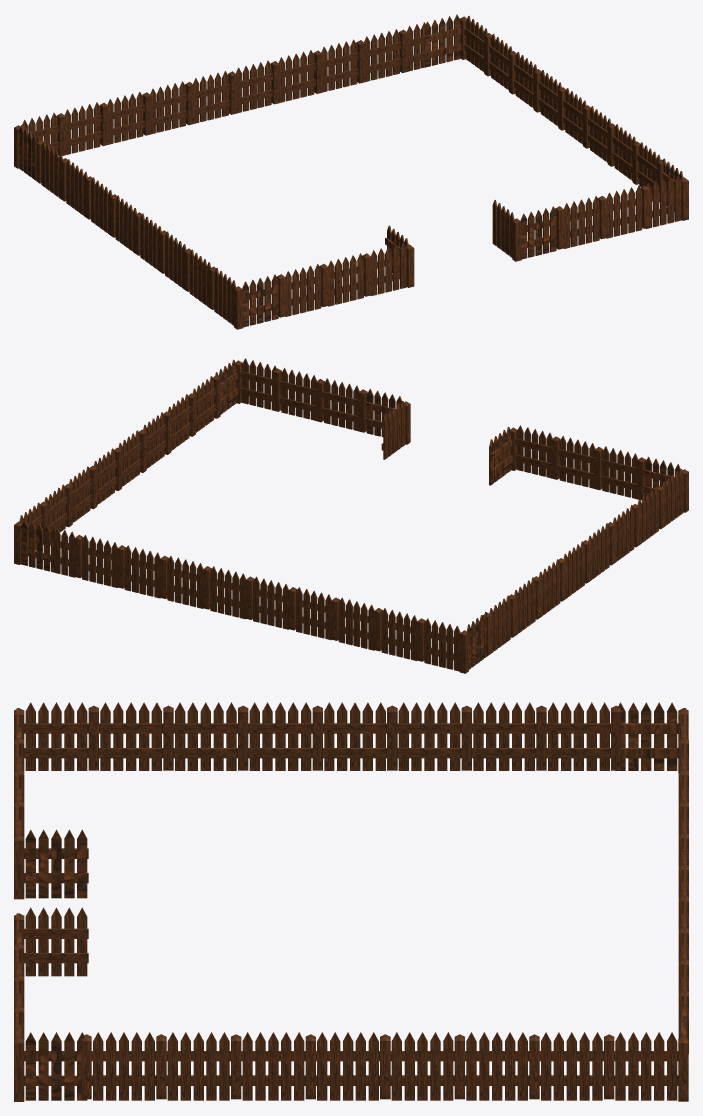
File: cerca.obj
3 views of the same model, one above another, from view 1: azimuth 30°, elevation 25°; view 2: azimuth 150°, elevation 25°; view 3: azimuth 270°, elevation 25° (orthographic). The views are drawn at different scales.
Parts seen in each view (by area): view 1: pasted__pasted__pasted__pasted__pasted__pasted__pasted__pasted__, pasted__pasted__pasted__pasted__pasted__pasted__pasted__Fence_Fu, pasted__Fence_Outwards_Corner group65, Fence_Outwards_Corner, pasted__pasted__Fence_Outwards_Corner pasted__group47 group56, pasted__pasted__pasted__pasted__Fence_Full pasted__pasted__paste, pasted__Fence_Outwards_Corner group40, pasted__pasted__Fence_Full pasted__group66 group67, Fence_Full, pasted__Fence_Full group39, pasted__pasted__Fence_Outwards_Corner pasted__group40 group68, pasted__Fence_Full group66 (+5 smaller); view 2: pasted__pasted__pasted__pasted__pasted__pasted__pasted__pasted__, pasted__pasted__pasted__pasted__pasted__pasted__pasted__Fence_Fu, pasted__Fence_Outwards_Corner group40, pasted__Fence_Outwards_Corner group47, pasted__pasted__pasted__pasted__Fence_Full pasted__pasted__paste, pasted__pasted__Fence_Outwards_Corner pasted__group40 group68, pasted__Fence_Outwards_Corner group65, pasted__pasted__Fence_Full pasted__group66 group67, Fence_Full, pasted__Fence_Full group39, pasted__pasted__Fence_Outwards_Corner pasted__group47 group56, pasted__Fence_Full group66 (+5 smaller); view 3: pasted__pasted__pasted__pasted__pasted__pasted__pasted__pasted__, pasted__pasted__pasted__pasted__Fence_Full pasted__pasted__paste, pasted__pasted__pasted__pasted__pasted__pasted__pasted__Fence_Fu, pasted__pasted__Fence_Full pasted__group36 group38, pasted__Fence_Outwards_Corner group40, pasted__pasted__Fence_Outwards_Corner pasted__group47 group56, pasted__pasted__pasted__pasted__pasted__pasted__Fence_Full paste, pasted__pasted__pasted__pasted__pasted__Fence_Full pasted__paste, pasted__pasted__Fence_Outwards_Corner pasted__group40 group68, pasted__pasted__pasted__Fence_Full pasted__pasted__group36 paste, pasted__Fence_Outwards_Corner group65, Fence_Outwards_Corner (+3 smaller).
Part boxes in pixels (bbox=[...]): pasted__pasted__pasted__pasted__pasted__pasted__pasted__pasted__: bbox=[103, 22, 666, 202]; pasted__pasted__pasted__pasted__pasted__pasted__pasted__Fence_Fu: bbox=[36, 102, 108, 201]; pasted__Fence_Outwards_Corner group65: bbox=[492, 200, 556, 261]; Fence_Outwards_Corner: bbox=[214, 267, 278, 329]; pasted__pasted__Fence_Outwards_Corner pasted__group47 group56: bbox=[425, 14, 487, 72]; pasted__pasted__pasted__pasted__Fence_Full pasted__pasted__paste: bbox=[110, 194, 191, 291]; pasted__Fence_Outwards_Corner group40: bbox=[371, 225, 414, 295]; pasted__pasted__Fence_Full pasted__group66 group67: bbox=[598, 185, 649, 239]; Fence_Full: bbox=[319, 253, 371, 306]; pasted__Fence_Full group39: bbox=[277, 264, 328, 317]; pasted__pasted__Fence_Outwards_Corner pasted__group40 group68: bbox=[645, 158, 688, 228]; pasted__Fence_Full group66: bbox=[555, 196, 607, 249]; pasted__pasted__pasted__pasted__pasted__pasted__pasted__pasted__: bbox=[40, 375, 379, 651]; pasted__pasted__pasted__pasted__pasted__pasted__pasted__Fence_Fu: bbox=[374, 594, 513, 661]; pasted__Fence_Outwards_Corner group40: bbox=[489, 425, 552, 485]; pasted__Fence_Outwards_Corner group47: bbox=[424, 612, 487, 673]; pasted__pasted__pasted__pasted__Fence_Full pasted__pasted__paste: bbox=[556, 504, 639, 601]; pasted__pasted__Fence_Outwards_Corner pasted__group40 group68: bbox=[215, 358, 276, 418]; pasted__Fence_Outwards_Corner group65: bbox=[365, 389, 410, 459]; pasted__pasted__Fence_Full pasted__group66 group67: bbox=[272, 368, 324, 422]; Fence_Full: bbox=[551, 436, 603, 489]; pasted__Fence_Full group39: bbox=[594, 446, 646, 500]; pasted__pasted__Fence_Outwards_Corner pasted__group47 group56: bbox=[14, 502, 55, 572]; pasted__Fence_Full group66: bbox=[315, 378, 367, 432]; pasted__pasted__pasted__pasted__pasted__pasted__pasted__pasted__: bbox=[81, 769, 688, 1100]; pasted__pasted__pasted__pasted__Fence_Full pasted__pasted__paste: bbox=[163, 702, 397, 770]; pasted__pasted__pasted__pasted__pasted__pasted__pasted__Fence_Fu: bbox=[536, 702, 688, 774]; pasted__pasted__Fence_Full pasted__group36 group38: bbox=[88, 702, 173, 770]; pasted__Fence_Outwards_Corner group40: bbox=[14, 802, 88, 899]; pasted__pasted__Fence_Outwards_Corner pasted__group47 group56: bbox=[614, 1005, 688, 1101]; pasted__pasted__pasted__pasted__pasted__pasted__Fence_Full paste: bbox=[461, 702, 546, 770]; pasted__pasted__pasted__pasted__pasted__Fence_Full pasted__paste: bbox=[387, 702, 471, 770]; pasted__pasted__Fence_Outwards_Corner pasted__group40 group68: bbox=[14, 1005, 87, 1101]; pasted__pasted__pasted__Fence_Full pasted__pasted__group36 paste: bbox=[238, 702, 322, 770]; pasted__Fence_Outwards_Corner group65: bbox=[14, 907, 88, 976]; Fence_Outwards_Corner: bbox=[14, 702, 88, 770].
Bounding box in the file's own units: 18.05 × 1.71 × 15.45.
32 materials, 32 textured.
